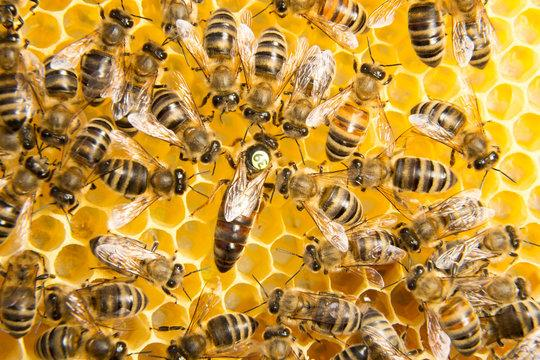Queen-Bee: (192, 132, 277, 272)
worker-bee: (96, 130, 189, 227), (306, 59, 393, 161), (128, 72, 221, 163), (409, 82, 499, 171), (52, 8, 133, 106), (347, 144, 456, 215), (0, 144, 46, 311), (403, 261, 481, 359), (0, 92, 161, 139), (275, 166, 363, 251), (176, 8, 240, 120), (238, 23, 307, 125), (253, 275, 366, 335), (89, 232, 185, 297), (302, 225, 405, 285), (167, 291, 257, 359), (396, 189, 494, 251), (50, 116, 112, 213), (278, 45, 335, 146), (111, 39, 167, 136), (273, 0, 370, 49), (45, 280, 148, 324), (37, 54, 84, 149), (0, 250, 51, 337), (0, 28, 43, 130), (0, 156, 49, 243), (429, 225, 521, 269), (0, 147, 20, 337), (443, 0, 498, 68), (34, 325, 126, 359), (407, 0, 444, 66), (0, 132, 133, 143), (0, 143, 75, 149), (0, 127, 16, 145)
